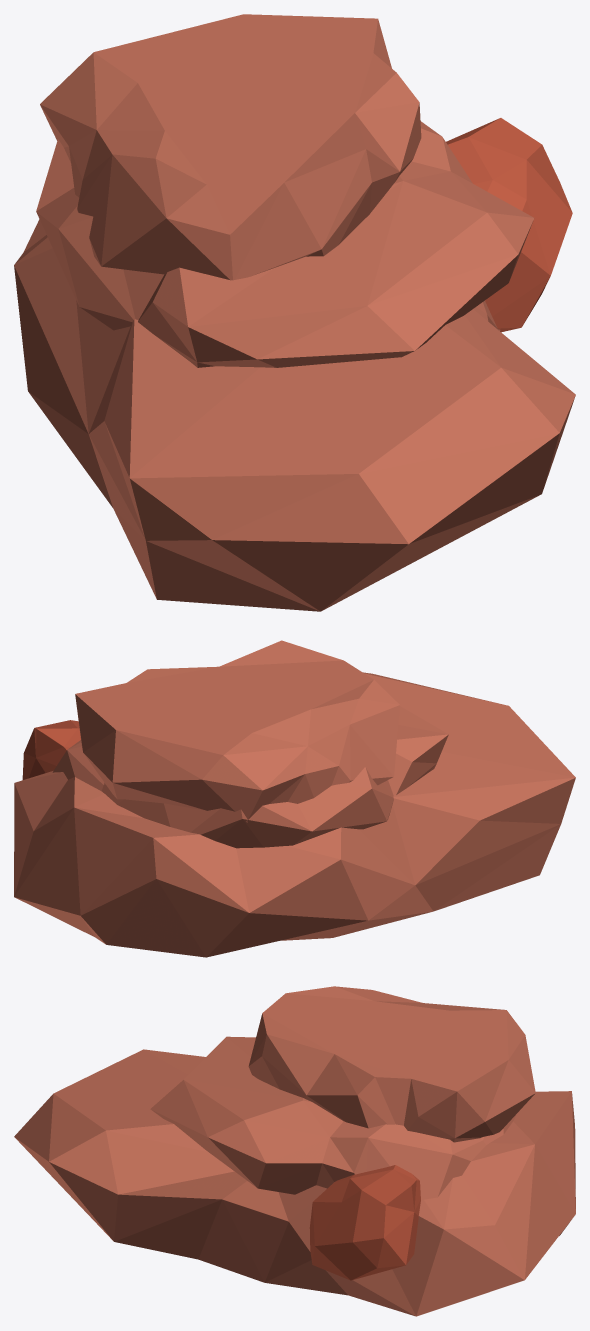
Rendered from rock_005.fbx.
3 views of the same model, one above another, from view 1: azimuth 30°, elevation 25°; view 2: azimuth 150°, elevation 25°; view 3: azimuth 270°, elevation 25° (orthographic). The views are drawn at different scales.
Visible parts, largest first — view 1: rock_005; view 2: rock_005; view 3: rock_005.
Part boxes in pixels (x1,y1,x2,y2): rock_005: (14,14,575,611); rock_005: (14,640,575,957); rock_005: (14,986,575,1316).
Bounding box in the file's own units: 989 × 1173 × 520.
